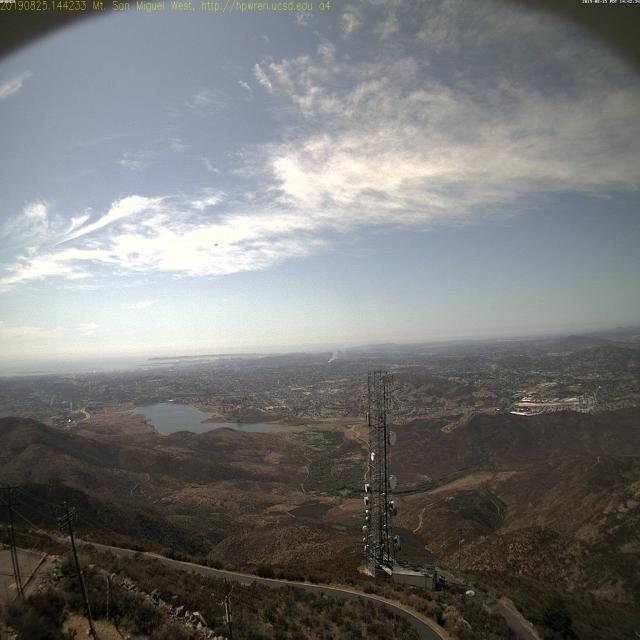smoke: (321, 341, 348, 369)
